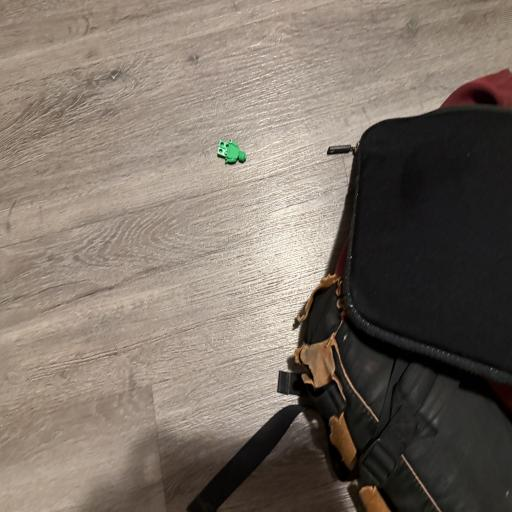Minifig: (217, 139, 246, 163)
